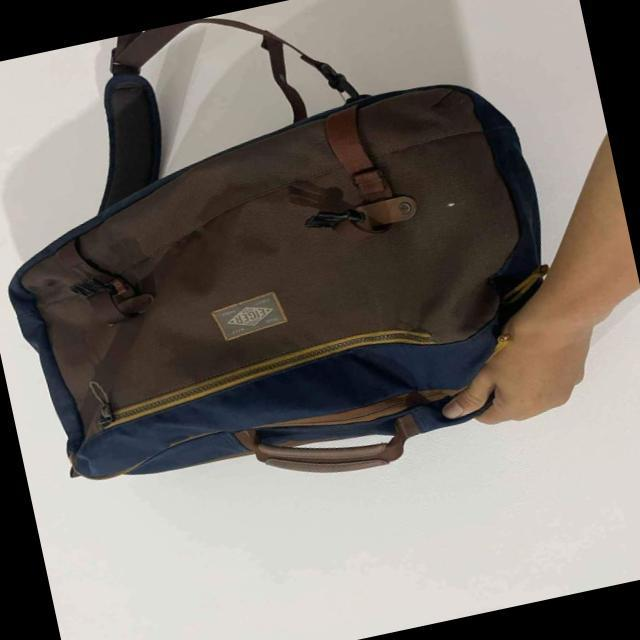bag: (8, 83, 535, 477)
